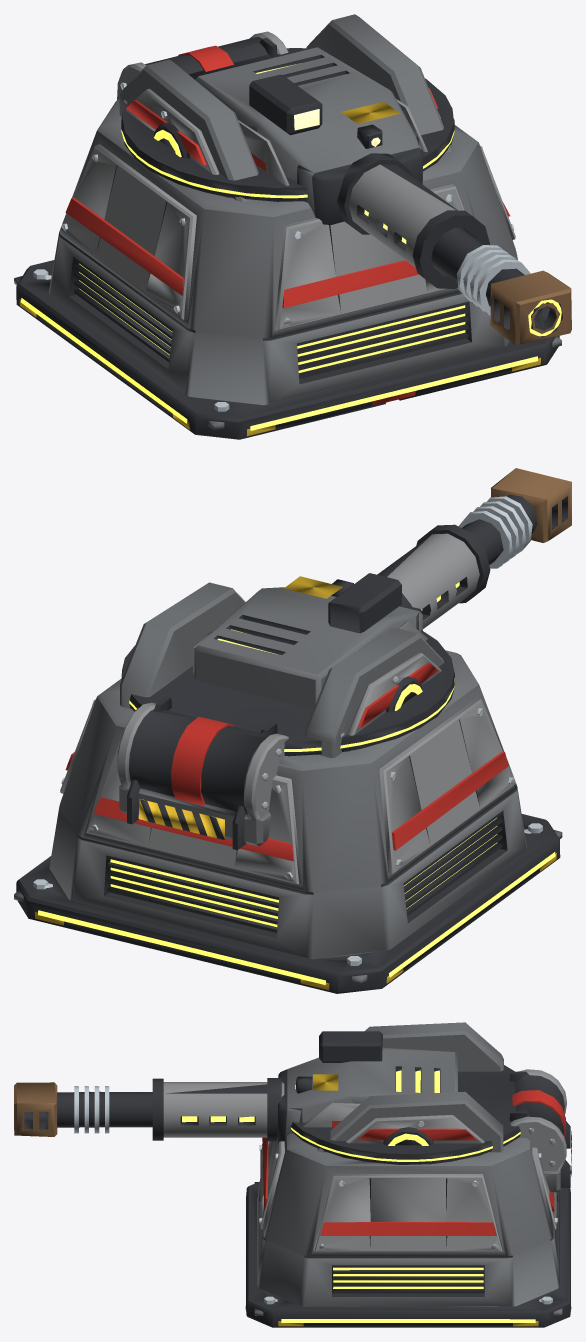
The model's file is R4W_Basic_LOD1.fbx.
The picture shows the model from 3 angles, top to bottom: view 1: azimuth 30°, elevation 25°; view 2: azimuth 150°, elevation 25°; view 3: azimuth 270°, elevation 25°; orthographic projection. The views are drawn at different scales.
Parts seen in each view (by area): view 1: R4W_Basic_Base_LOD1, R4W_Basic_Pitch_LOD1, R4W_Basic_Yaw_LOD1, R4W_Basic_Barrel_LOD1; view 2: R4W_Basic_Base_LOD1, R4W_Basic_Yaw_LOD1, R4W_Basic_Pitch_LOD1, R4W_Basic_Barrel_LOD1; view 3: R4W_Basic_Base_LOD1, R4W_Basic_Pitch_LOD1, R4W_Basic_Yaw_LOD1, R4W_Basic_Barrel_LOD1.
Part boxes in pixels (x1,y1,x2,y2): R4W_Basic_Base_LOD1: [14, 48, 561, 439]; R4W_Basic_Pitch_LOD1: [195, 47, 489, 288]; R4W_Basic_Yaw_LOD1: [117, 14, 452, 201]; R4W_Basic_Barrel_LOD1: [431, 227, 571, 345]; R4W_Basic_Base_LOD1: [14, 630, 562, 993]; R4W_Basic_Yaw_LOD1: [117, 582, 444, 849]; R4W_Basic_Pitch_LOD1: [193, 524, 490, 709]; R4W_Basic_Barrel_LOD1: [422, 468, 571, 609]; R4W_Basic_Base_LOD1: [245, 1065, 571, 1327]; R4W_Basic_Pitch_LOD1: [152, 1031, 457, 1142]; R4W_Basic_Yaw_LOD1: [317, 1022, 571, 1192]; R4W_Basic_Barrel_LOD1: [14, 1082, 255, 1136].
Size of the model in its own units: 0.5127 by 0.361 by 0.877.
